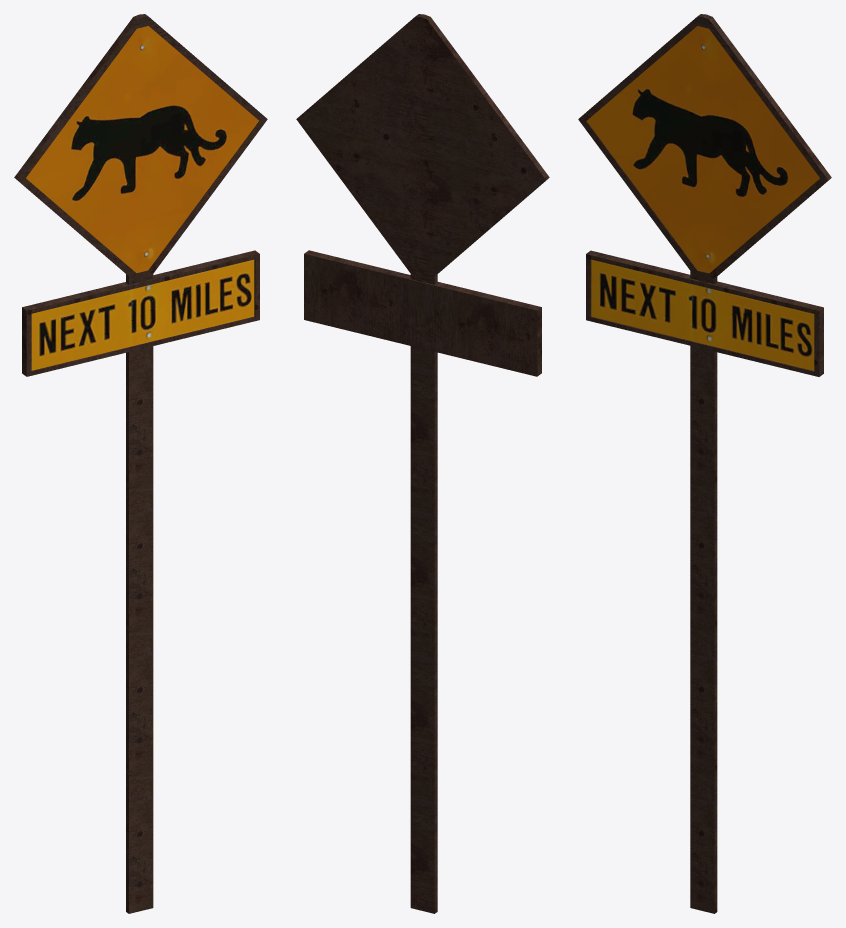
The model's file is objSignal.obj.
The picture shows the model from 3 angles, left to right: view 1: azimuth 30°, elevation 25°; view 2: azimuth 150°, elevation 25°; view 3: azimuth 330°, elevation 25°; orthographic projection.
Visible parts, largest first — view 1: signal; view 2: signal; view 3: signal.
Boxes of the visible parts, x1,y1,x2,y2 form: signal: [14, 14, 267, 913]; signal: [296, 14, 549, 913]; signal: [578, 14, 831, 913].
Size of the model in its own units: 2.64 by 9.01 by 0.0884.
